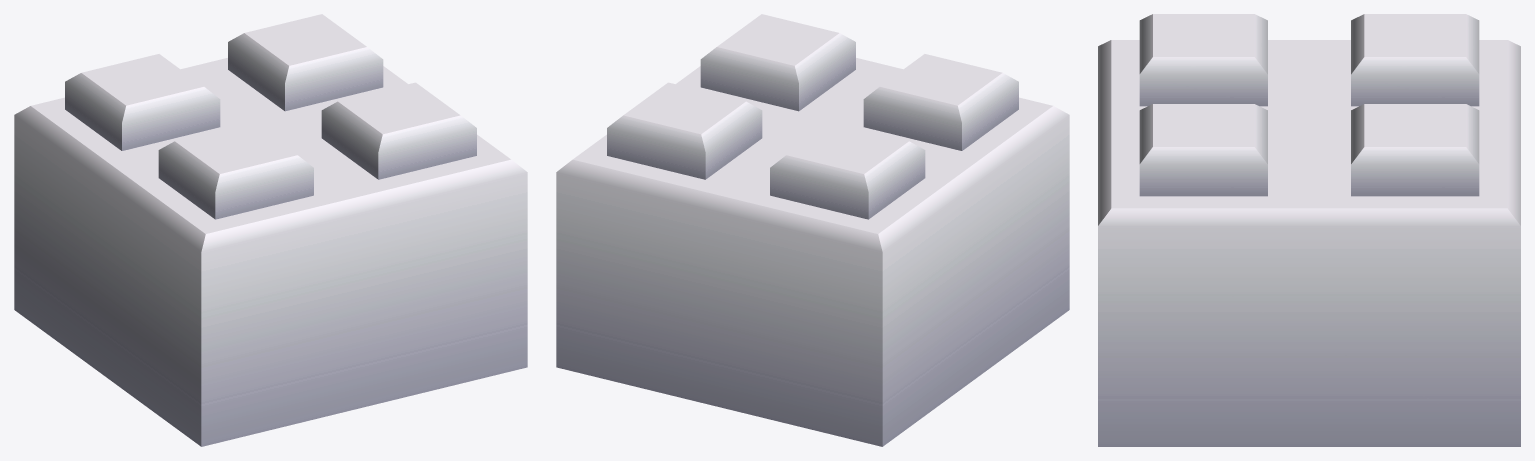
File: square-hq-brick-2x2.glb
3 views of the same model, side by side, from view 1: azimuth 30°, elevation 25°; view 2: azimuth 150°, elevation 25°; view 3: azimuth 270°, elevation 25° (orthographic). The views are drawn at different scales.
Visible parts, largest first — view 1: square-hq-brick-2x2; view 2: square-hq-brick-2x2; view 3: square-hq-brick-2x2.
Part boxes in pixels (x1,y1,x2,y2): square-hq-brick-2x2: [14, 14, 527, 446]; square-hq-brick-2x2: [556, 14, 1069, 446]; square-hq-brick-2x2: [1098, 14, 1520, 446].
Bounding box in the file's own units: 0.159 × 0.114 × 0.158.
1 material, 1 textured.
